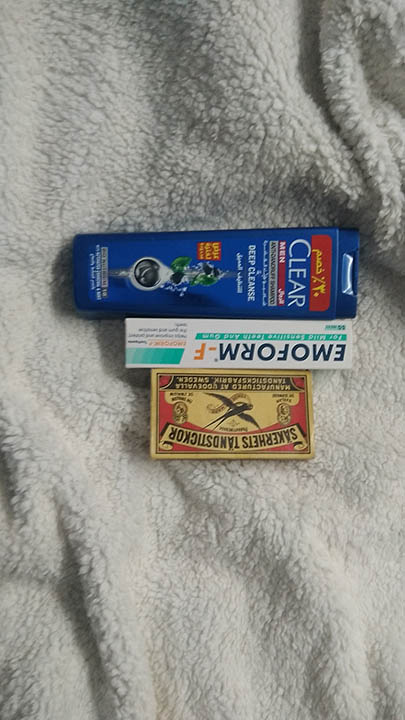Shampoo-Clear 4.7$: (53, 213, 366, 319)
Toothpaste-F 1.5$: (119, 313, 363, 371)
match-sticks .90$: (143, 369, 318, 465)
